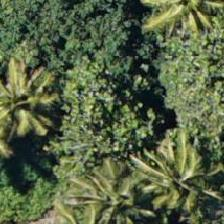coconut_tree: (140, 128, 223, 218), (0, 58, 72, 148), (75, 169, 165, 223)
